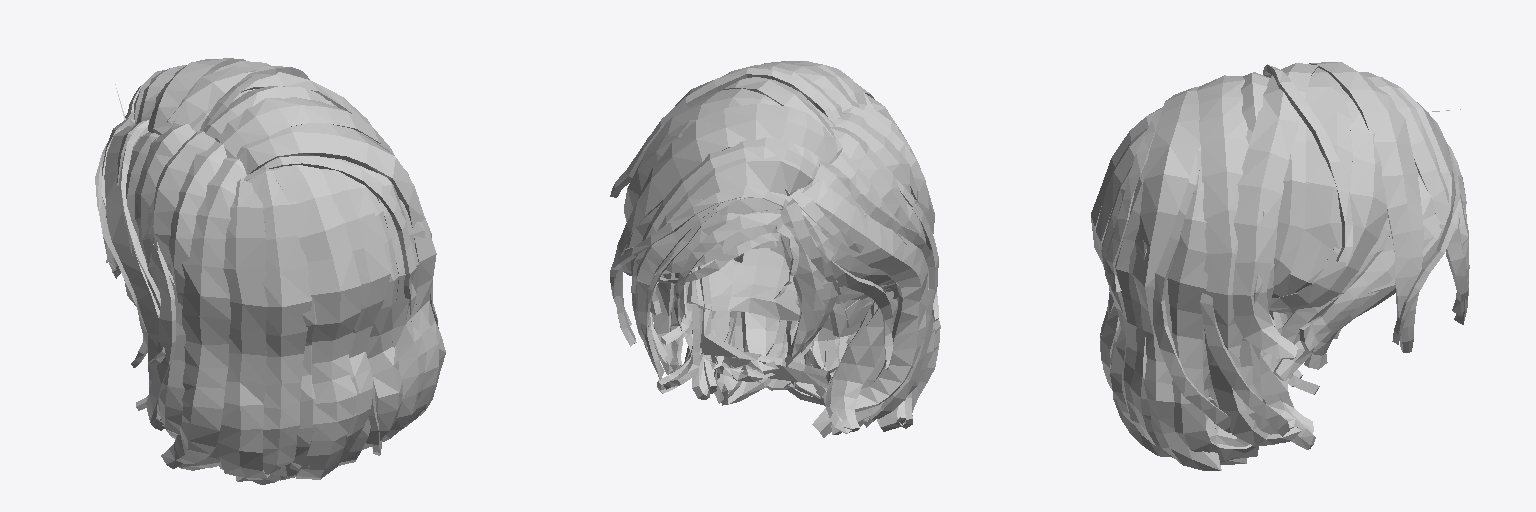
Rendered from hair.obj.
The picture shows the model from 3 angles: view 1: azimuth 30°, elevation 25°; view 2: azimuth 150°, elevation 25°; view 3: azimuth 270°, elevation 25°; orthographic projection.
Visible parts, largest first — view 1: hair; view 2: hair; view 3: hair.
Boxes of the visible parts, x1,y1,x2,y2 form: hair: [95, 58, 445, 484]; hair: [610, 61, 940, 437]; hair: [1091, 62, 1469, 470].
Size of the model in its own units: 17.62 by 22.33 by 20.76.